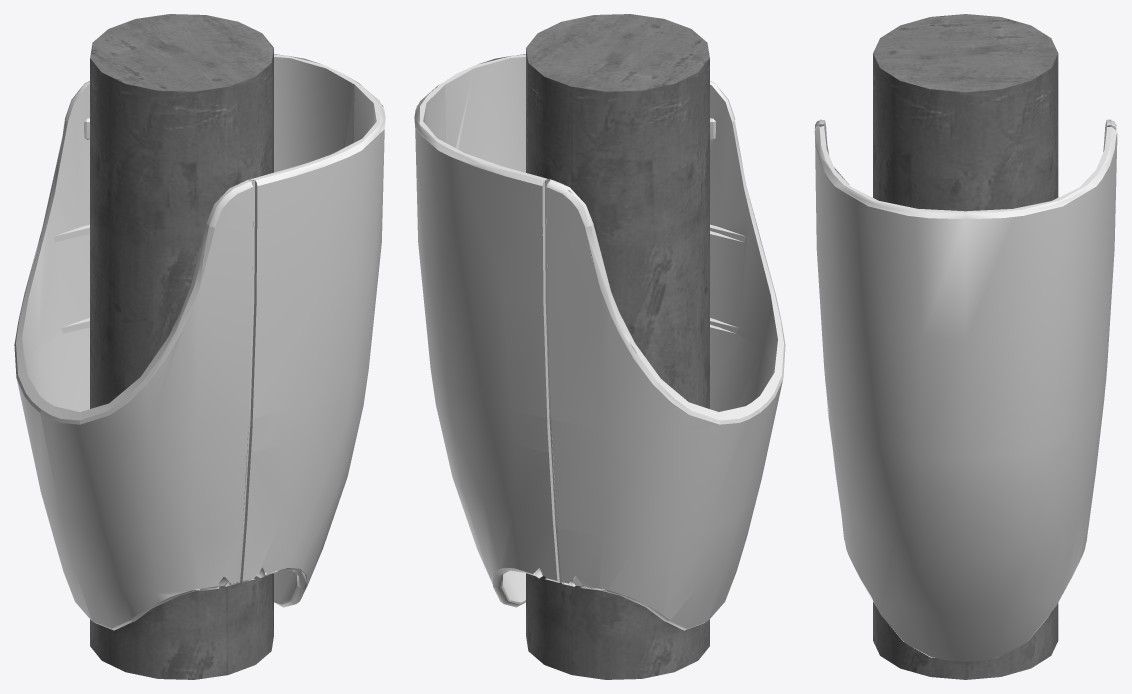
File: icub_r_forearm.dae
3 views of the same model, side by side, from view 1: azimuth 30°, elevation 25°; view 2: azimuth 150°, elevation 25°; view 3: azimuth 270°, elevation 25° (orthographic).
Parts seen in each view (by area): view 1: l_forearm_cyl_mesh; view 2: l_forearm_cyl_mesh; view 3: l_forearm_cyl_mesh.
Part boxes in pixels (box(x1,y1,x2,y2)): l_forearm_cyl_mesh: box(14, 14, 385, 679); l_forearm_cyl_mesh: box(414, 14, 785, 679); l_forearm_cyl_mesh: box(814, 14, 1117, 679).
Size of the model in its own units: 0.0804 by 0.0654 by 0.14.
Materials: 1 (1 with a texture image).
